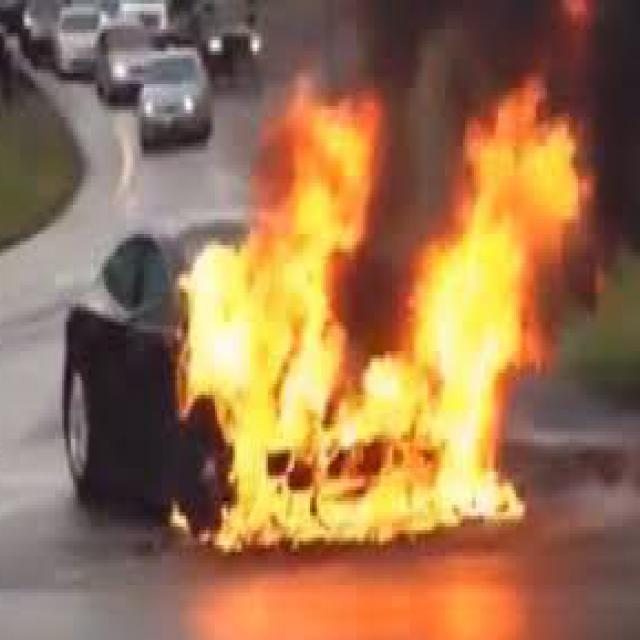Fire: (207, 121, 587, 563)
Smoke: (336, 0, 640, 289)
